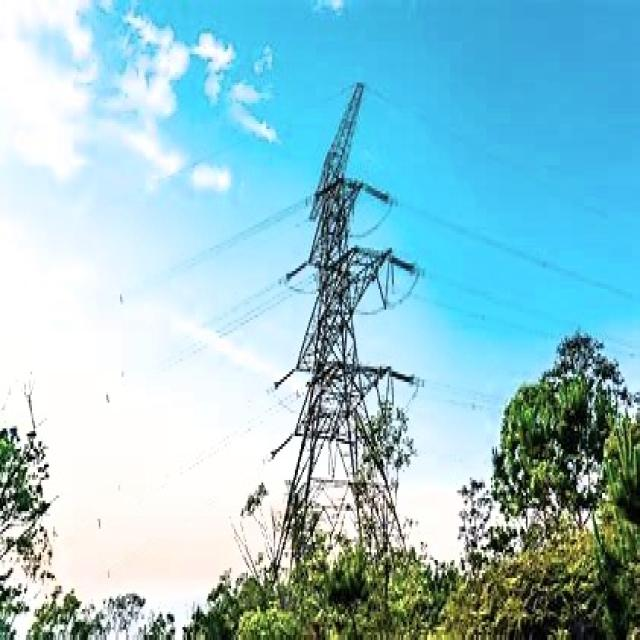utility poles: (267, 335, 421, 629), (472, 326, 636, 567)
